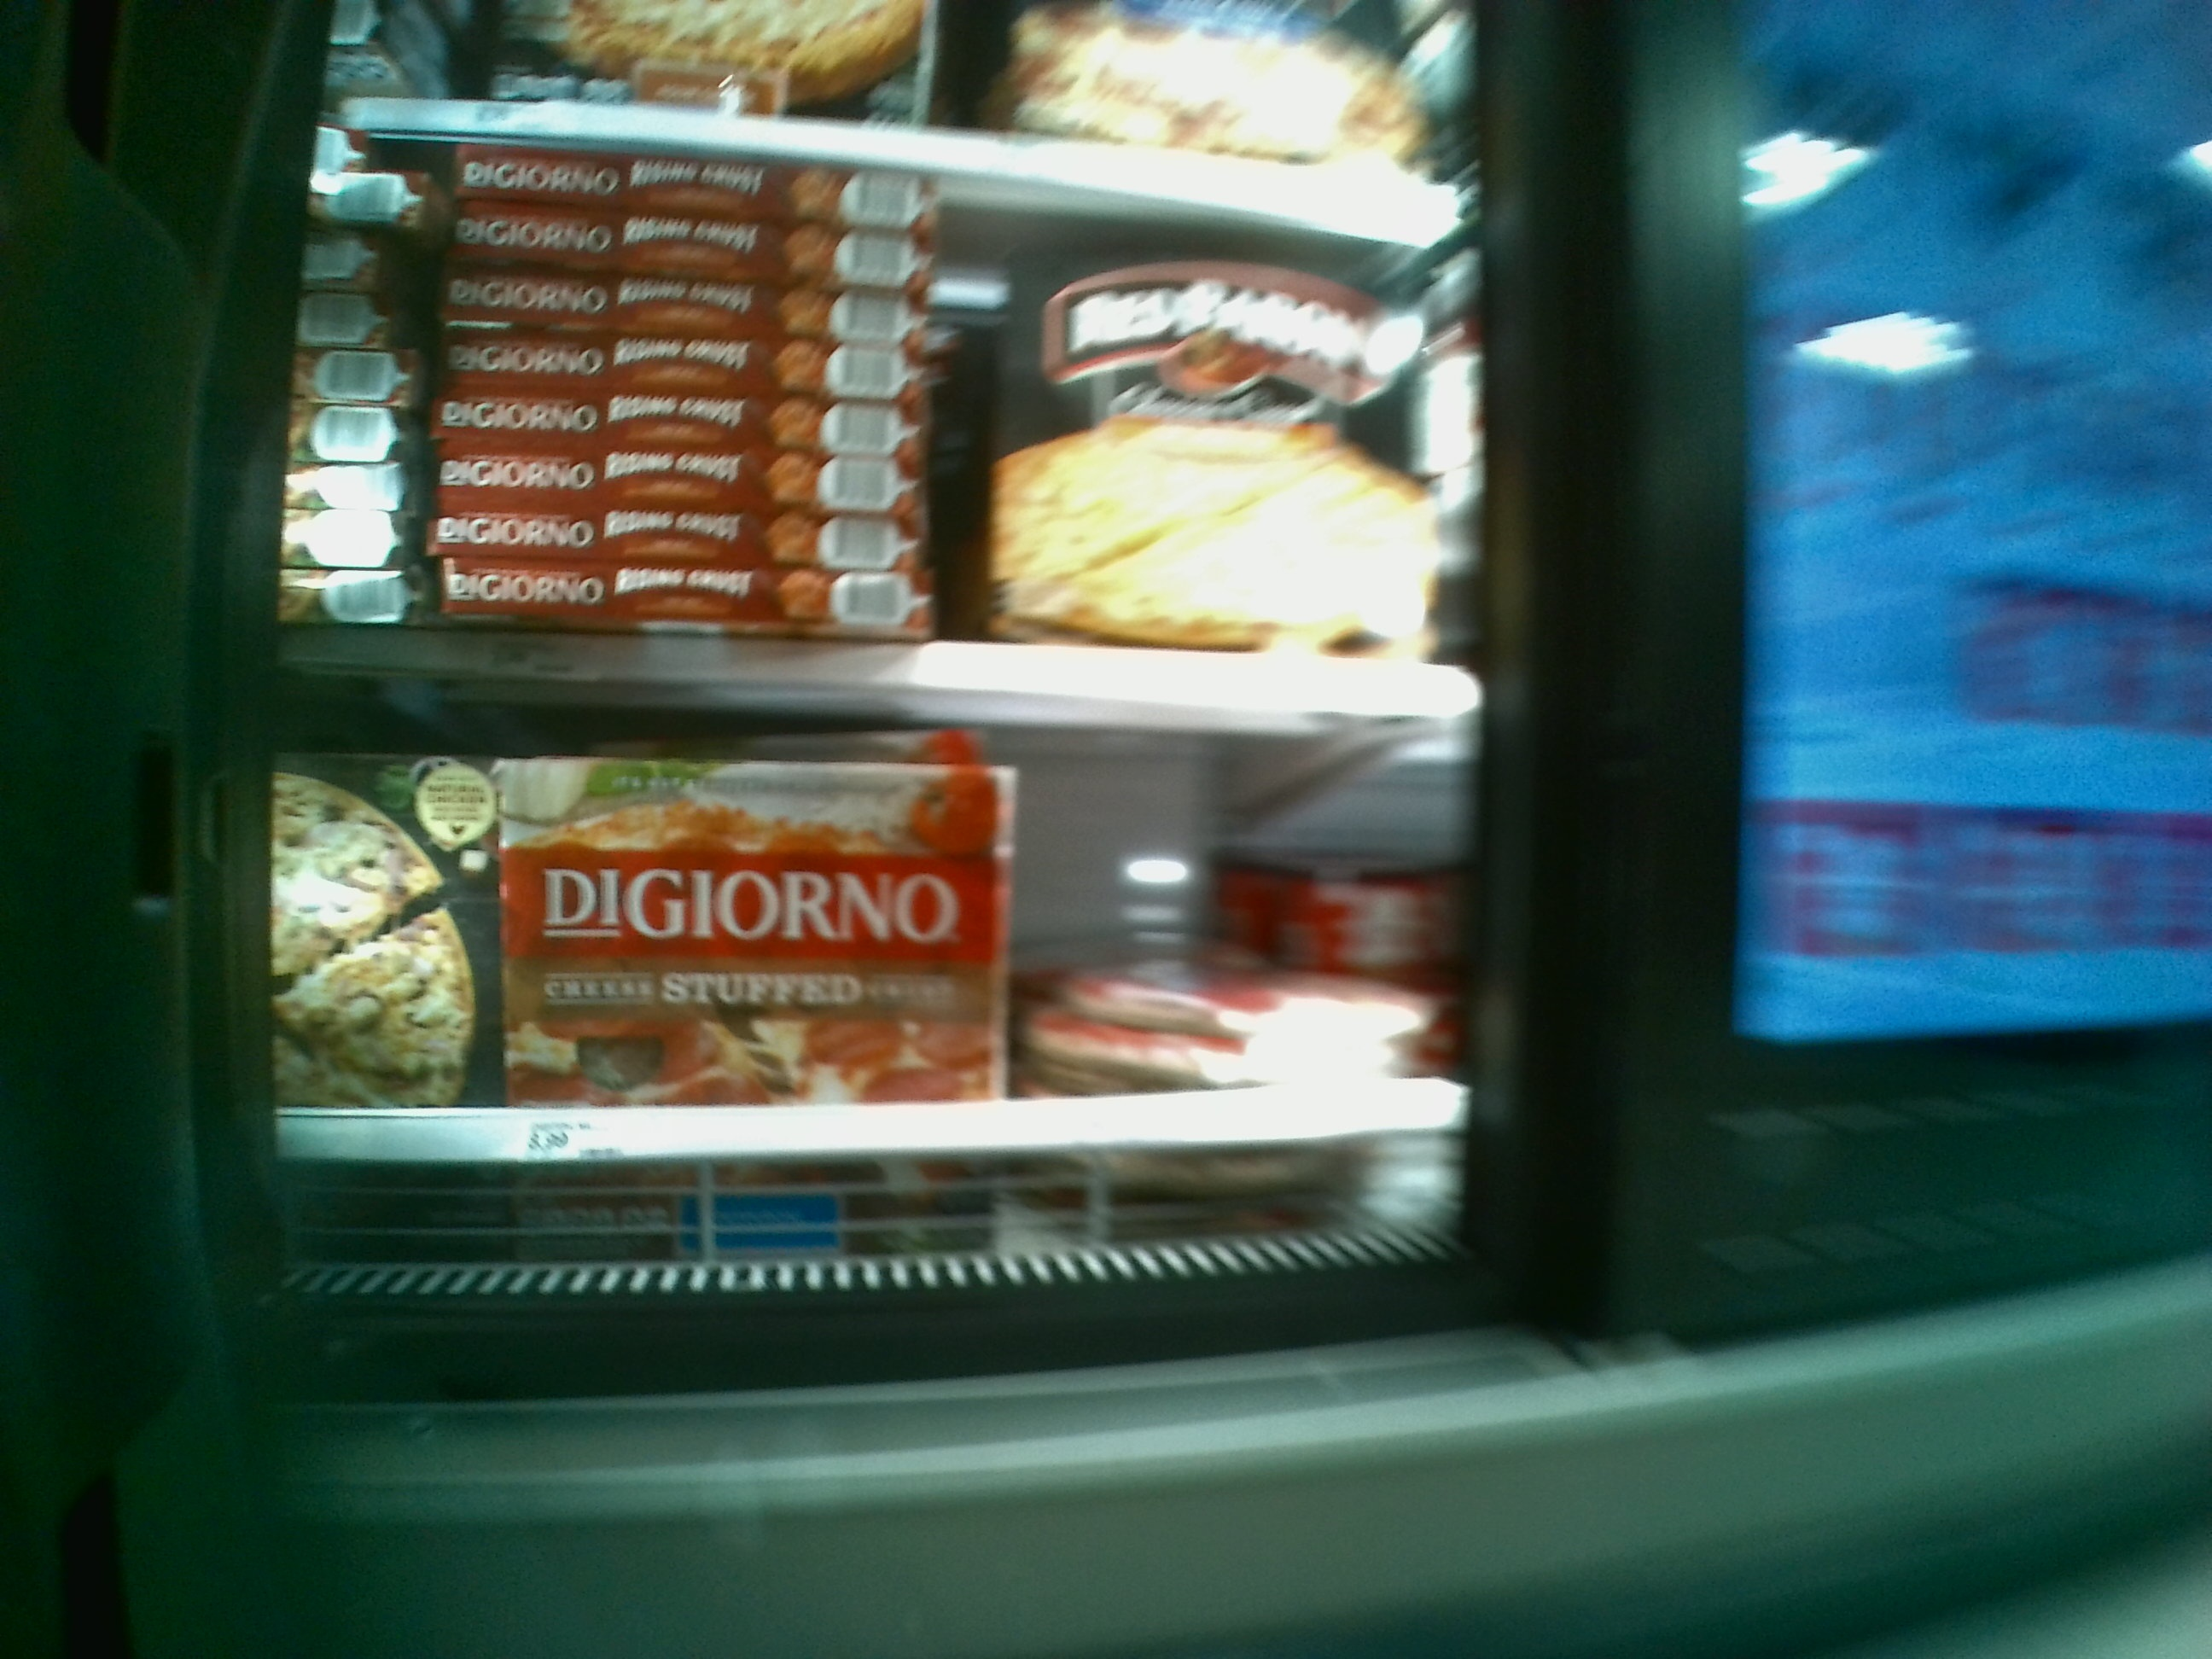shelf: (284, 667, 1479, 1171)
